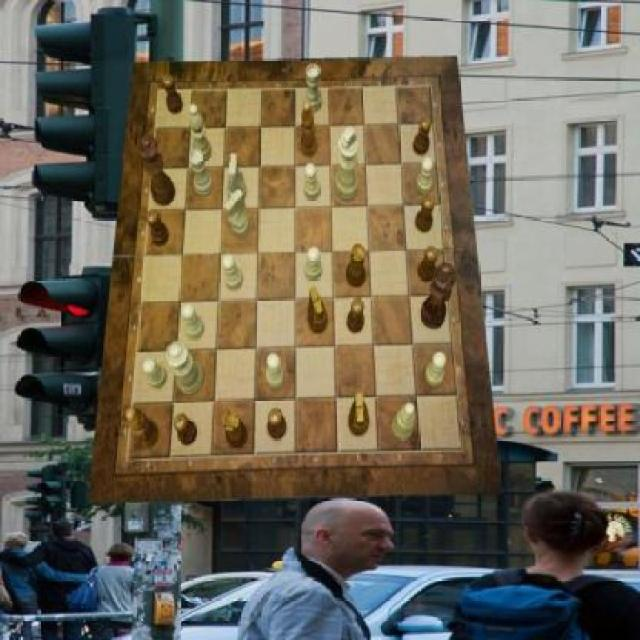bishop: (126, 408, 159, 449), (300, 100, 318, 158)
black-bishop: (421, 263, 457, 329)
black-king: (349, 392, 370, 436), (308, 288, 328, 334)
black-knight: (146, 210, 169, 246), (163, 74, 183, 114), (174, 414, 197, 446), (416, 196, 436, 232), (418, 248, 438, 282), (414, 117, 431, 155), (268, 409, 287, 440), (348, 299, 365, 333)
black-pawn: (140, 136, 177, 207)
black-queen: (223, 411, 248, 448), (346, 244, 366, 288)
black-rook: (190, 103, 212, 162), (392, 403, 417, 442)
white-bishop: (336, 126, 360, 201)
white-king: (226, 191, 251, 238), (228, 153, 248, 204)
white-knight: (183, 304, 206, 340), (424, 352, 446, 387), (222, 252, 242, 290), (143, 357, 167, 388), (266, 352, 286, 387), (417, 157, 434, 195), (304, 163, 320, 201), (305, 248, 322, 282)
white-pawn: (164, 340, 203, 395)
white-queen: (189, 149, 214, 197), (305, 65, 322, 112)
